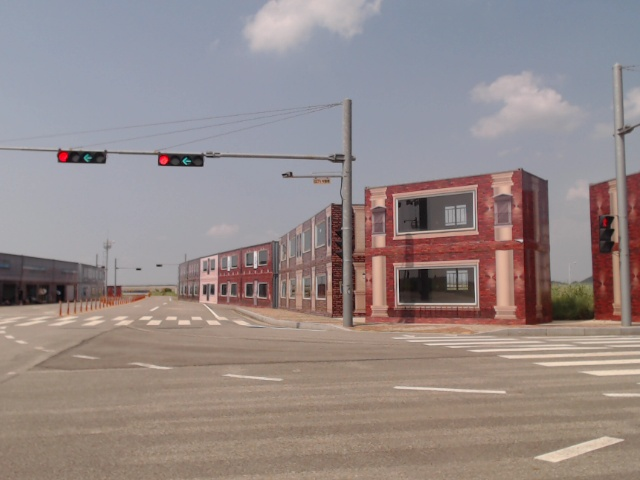left_green_4: (57, 149, 107, 163), (159, 152, 203, 166)
